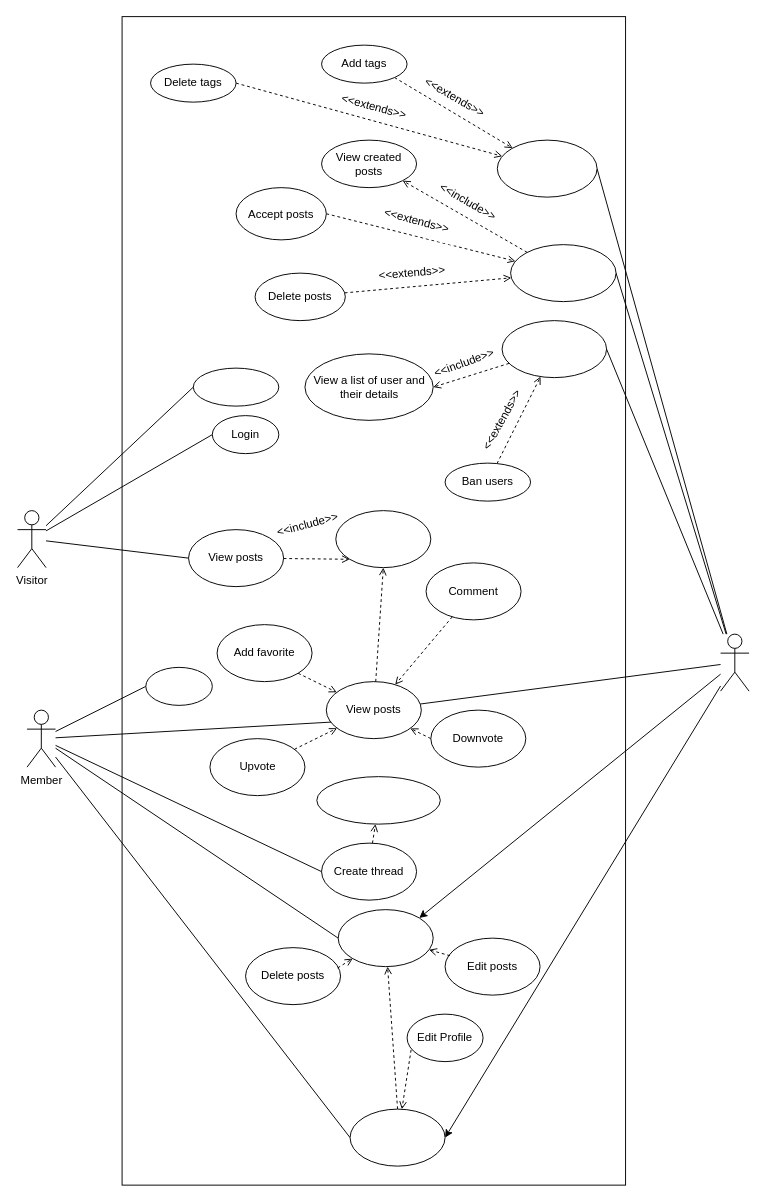
Some shapes in this 768 by 1202 pixel diagram are drawn without their labels. Each missing label, with the centre of its shape:
Admin: the point at 734,662
Create an Account: the point at 235,386
enter required info: the point at 378,800
Logout: the point at 178,685
Manage my posts: the point at 385,938
Manage posts: the point at 563,273
Manage tags: the point at 546,168
Manage users: the point at 554,349
View post details: the point at 383,539
View Profile: the point at 397,1137
